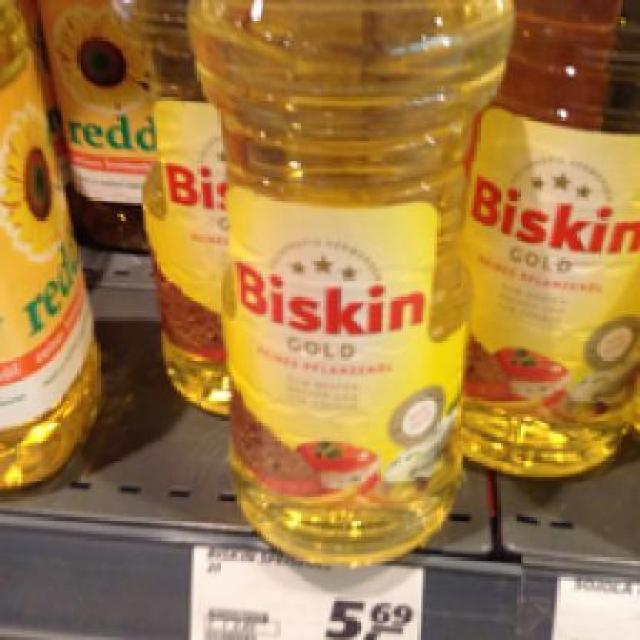Oil: (182, 0, 508, 566)
